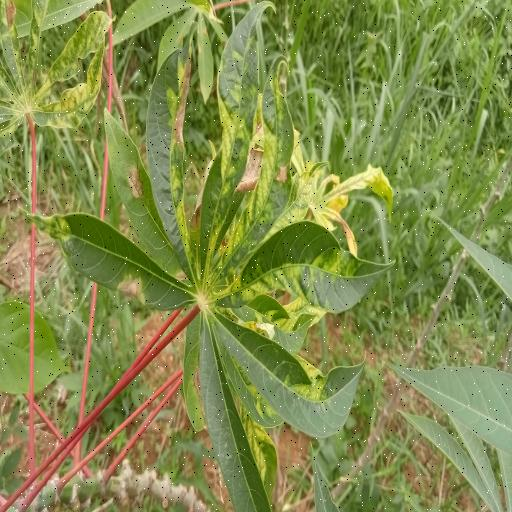Cassava_Brown_Leaf_Spot: (27, 45, 369, 498)
